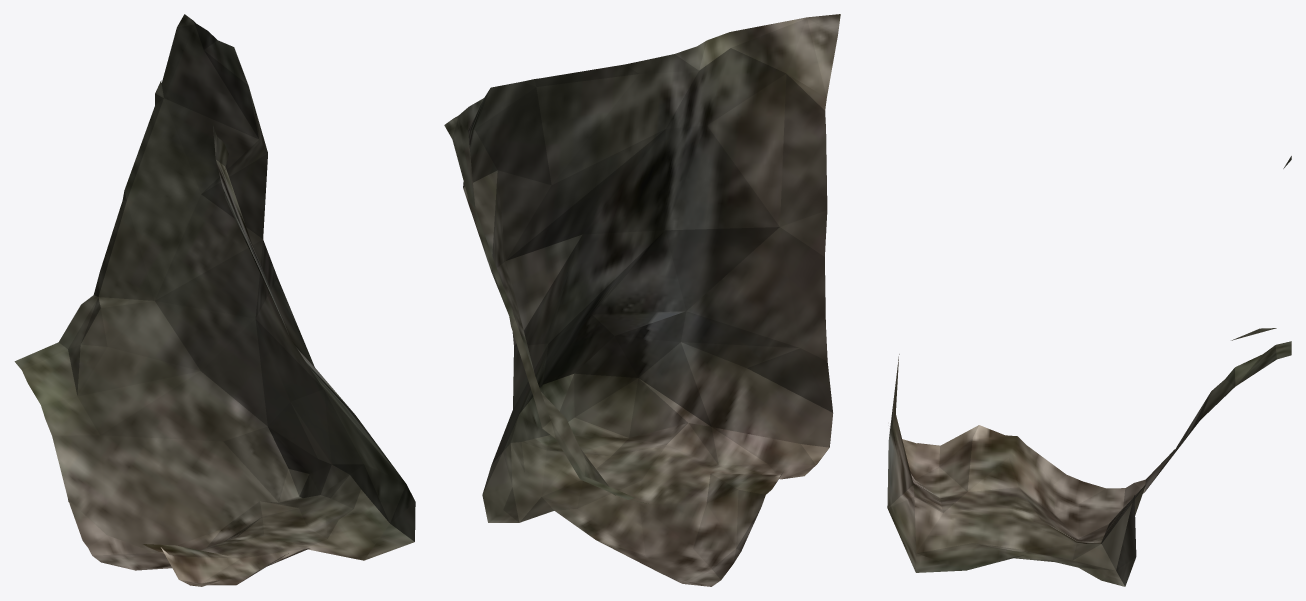
3 views of the same model, side by side, from view 1: azimuth 30°, elevation 25°; view 2: azimuth 150°, elevation 25°; view 3: azimuth 270°, elevation 25° (orthographic). The views are drawn at different scales.
Size of the model in its own units: 0.9811 by 1.79 by 1.43.
1 material, 1 textured.
